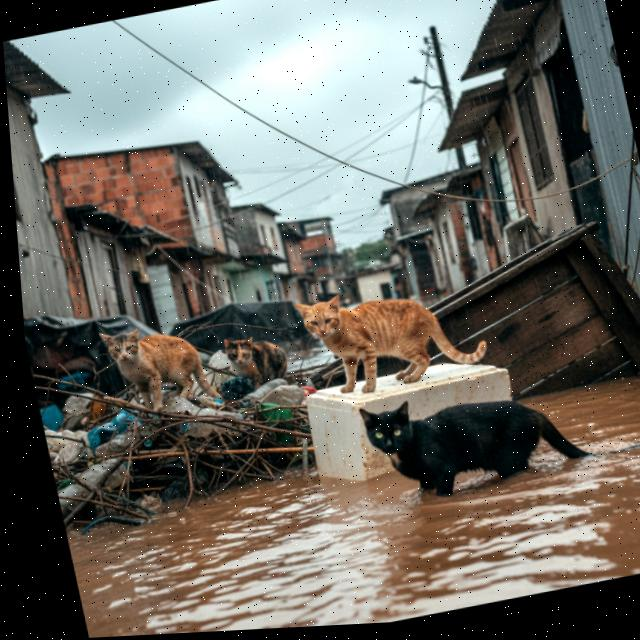cat: (337, 359, 616, 525), (290, 263, 504, 411), (89, 304, 231, 432), (214, 322, 302, 405)
